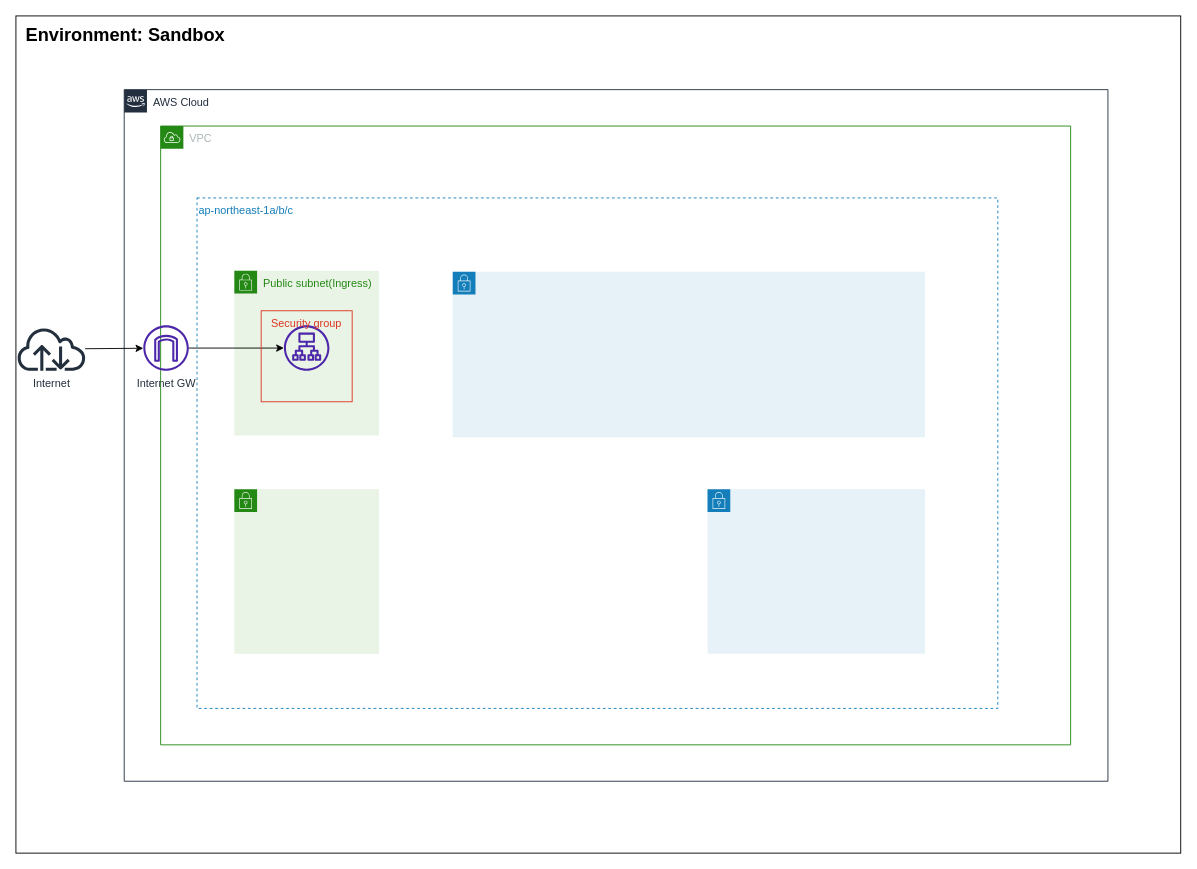
The diagram is 1197 pixels wide and 869 high, and some of its shapes have lost their labels. The centre of each missing label's shape, as x and y in pixels:
ALB: (306,347)
Private subnet(Application): (688,354)
Private subnet(DB): (816,571)
Public subnet(Bastion): (306,571)
